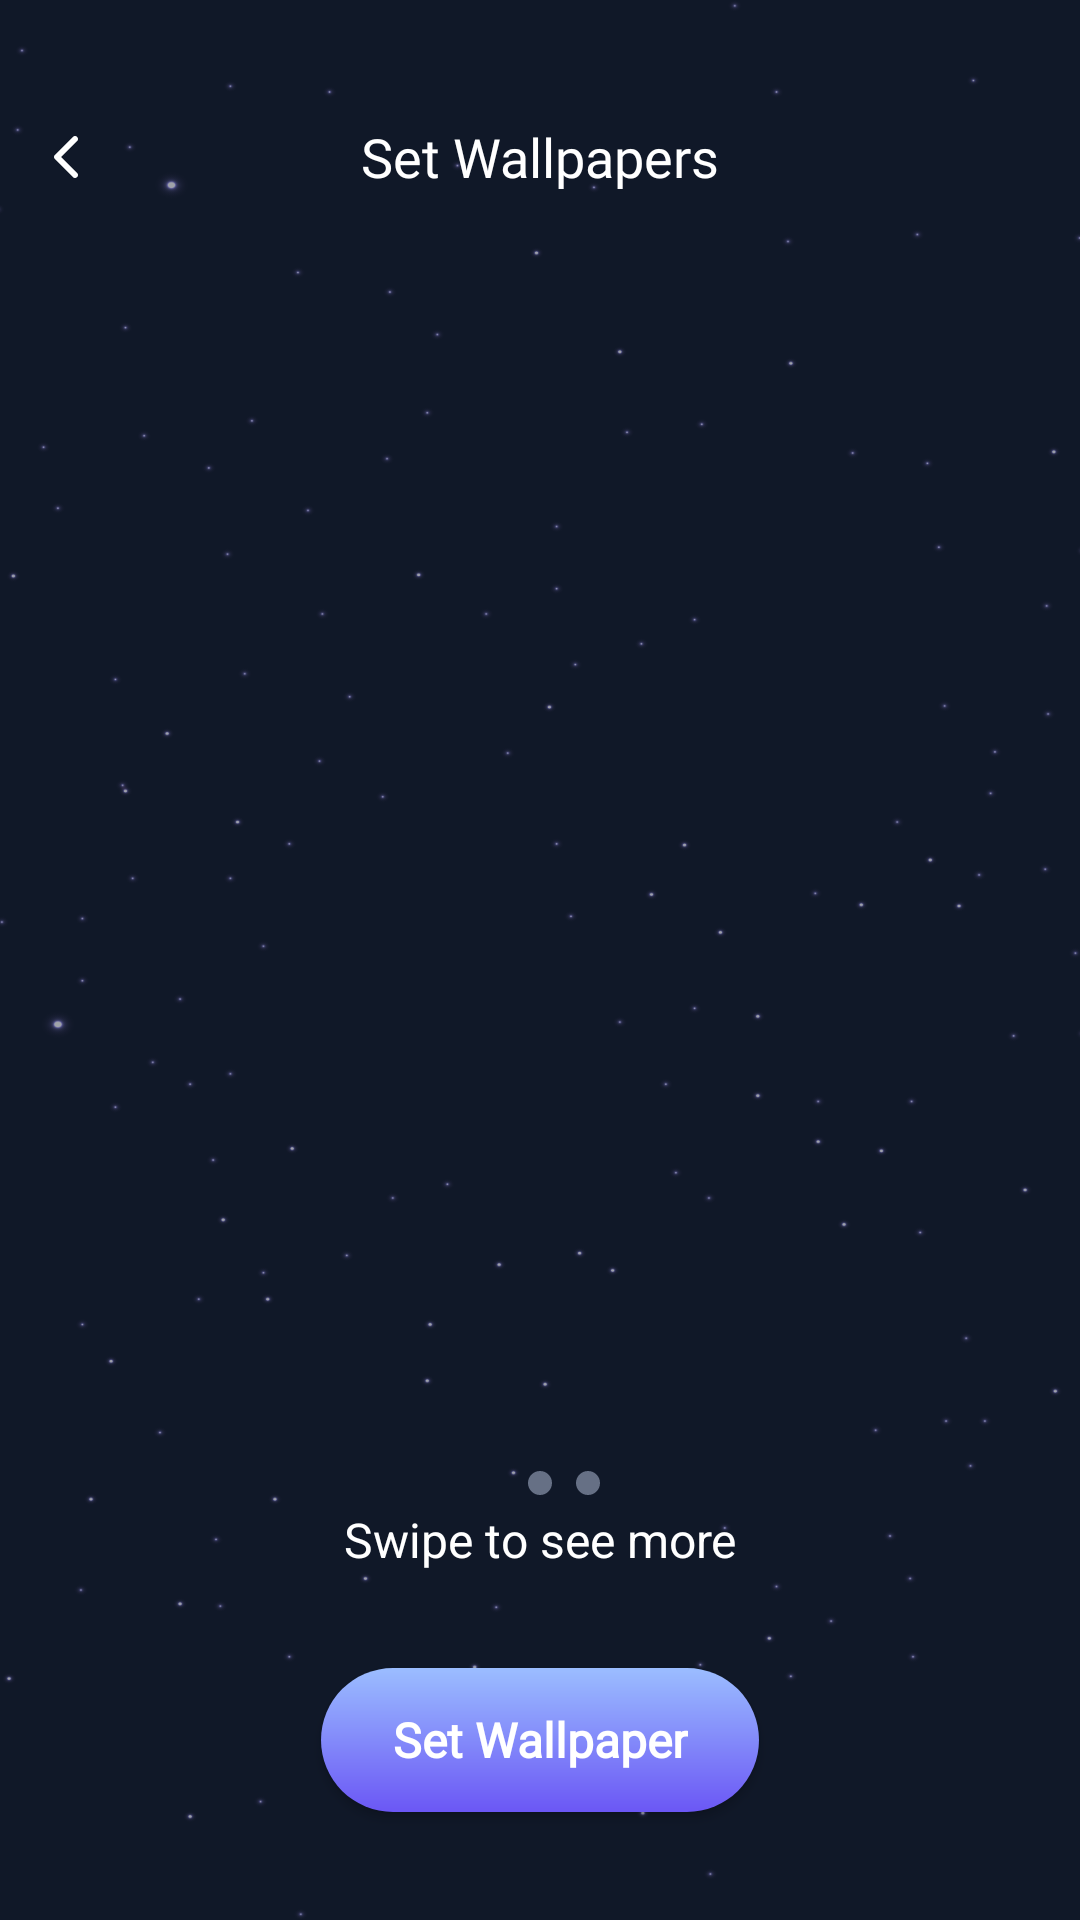

Screen size 1080x1920. Icon name, then its box in pixels as (x1, y1, x2, y2):
back: (54, 136, 78, 178)
